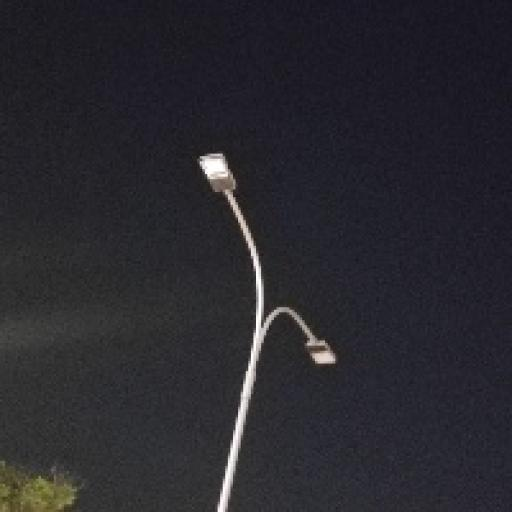Not Working: (192, 141, 244, 205), (294, 322, 344, 378)
